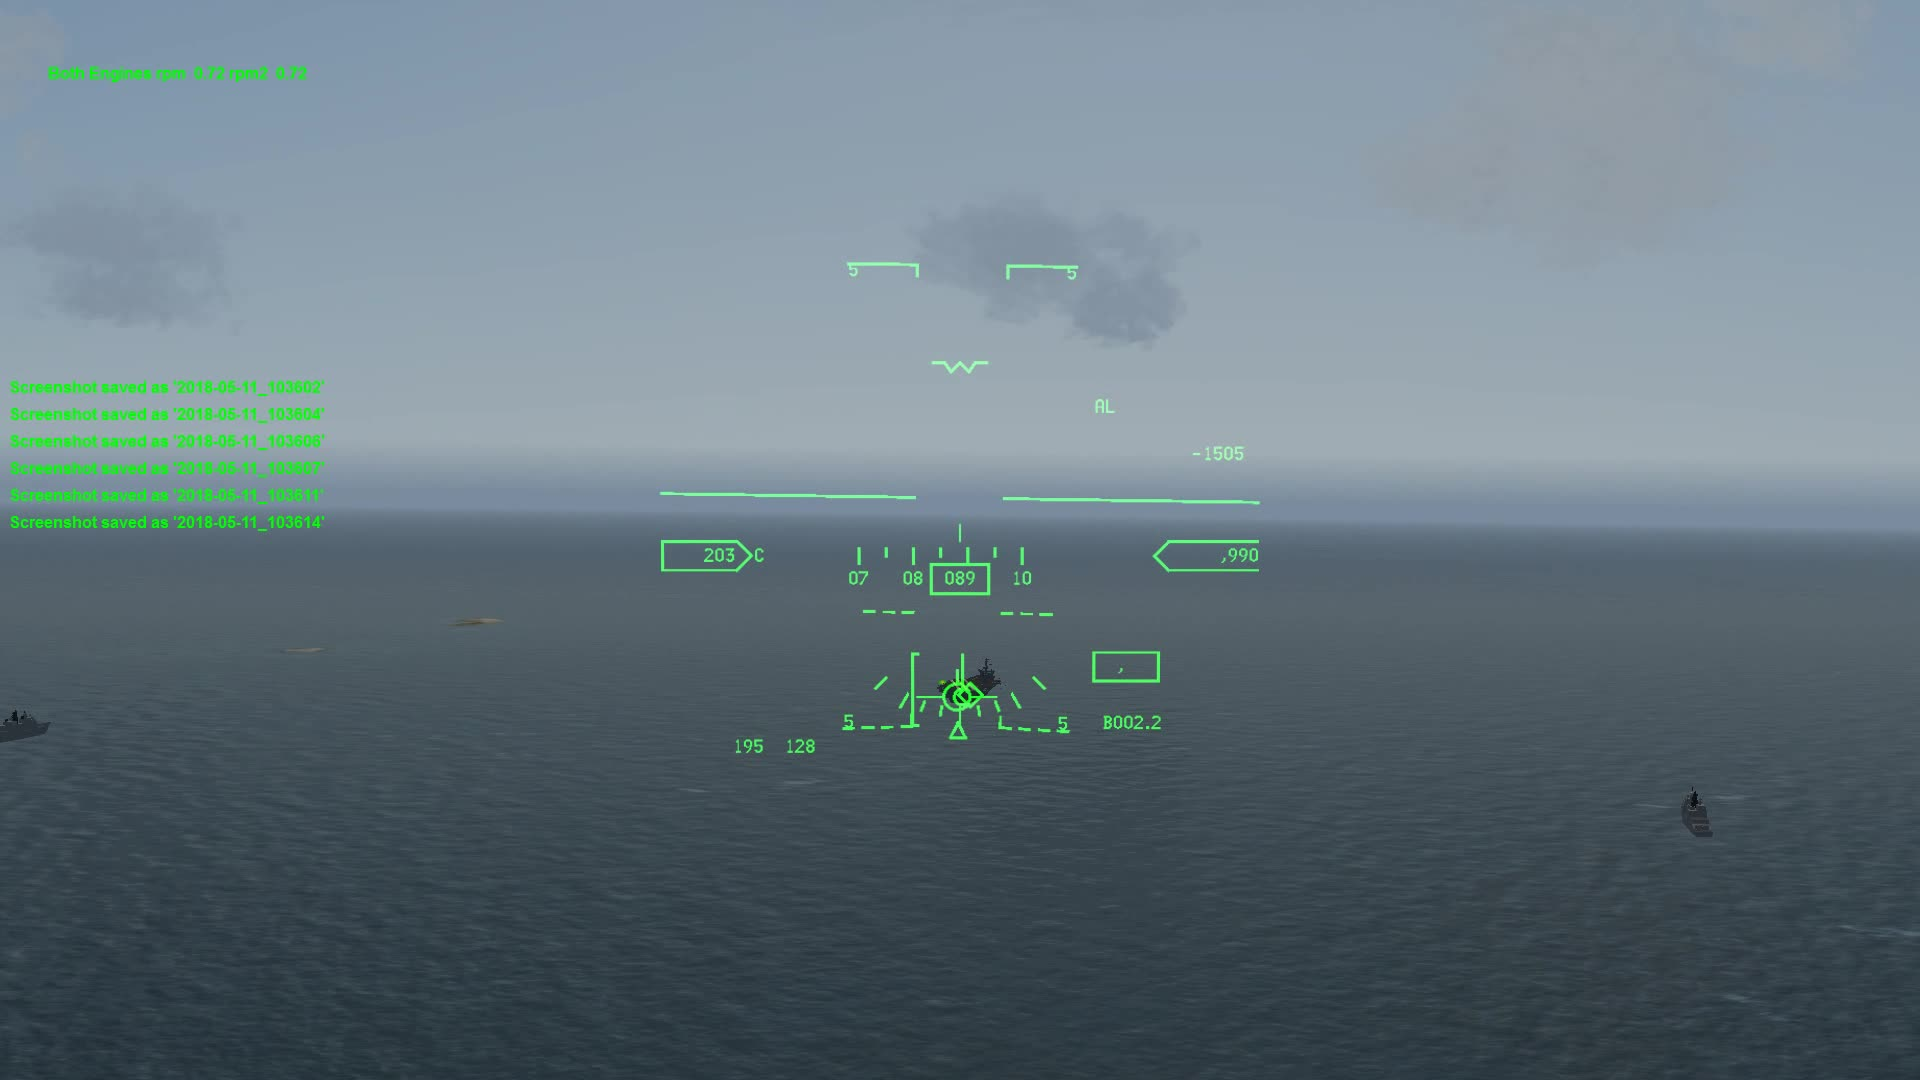speed vector: (918, 665, 998, 711)
